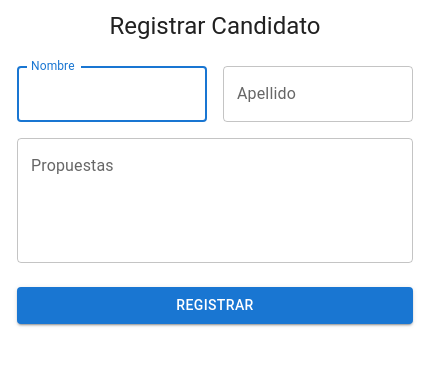
Scenario: RegistrarCandidato › should return an error if name is empty
Type "sosa" into the field labelled "Apellido" at x=318, y=94, box [223,66,413,122]
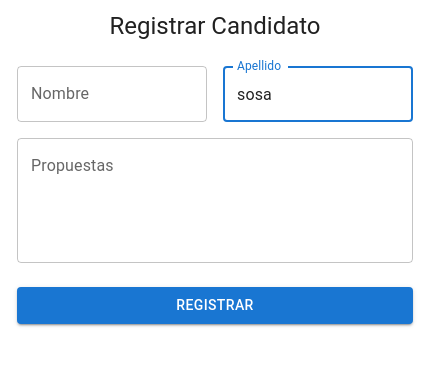
Type "lunes libres" into the text box labelled "Propuestas" at x=215, y=200, box [31,154,399,246]
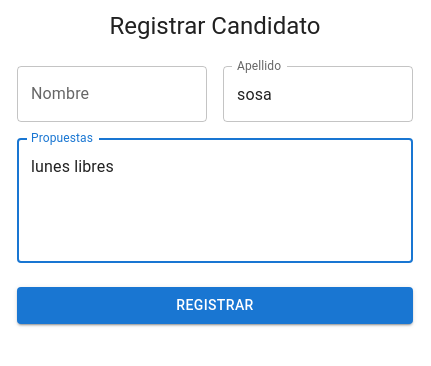
Click the button "Registrar" at x=215, y=305, box [17,287,413,324]
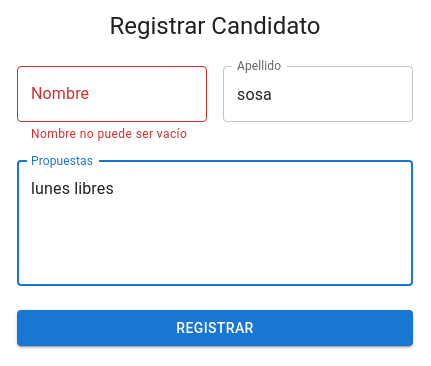
Expected: the text "Nombre no puede ser vacío" is shown, [31,125,193,145]
